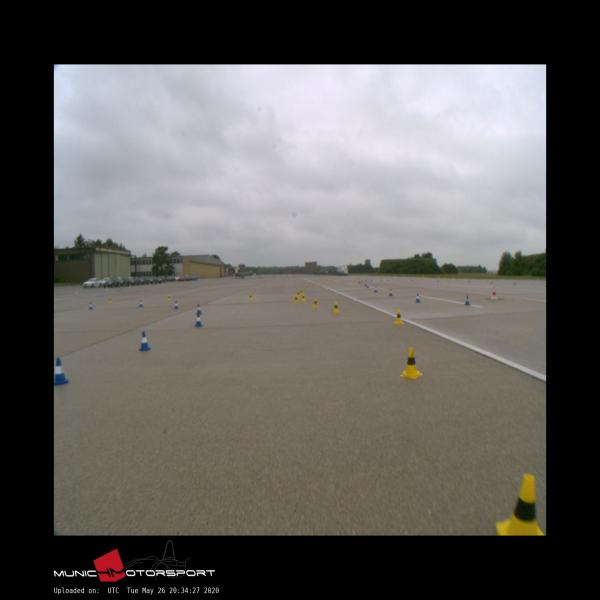blue_cone: (54, 358, 69, 385), (138, 332, 151, 350), (194, 313, 203, 327), (464, 295, 471, 305), (196, 304, 202, 314), (415, 293, 421, 302), (174, 301, 179, 309), (89, 302, 93, 310), (389, 288, 393, 296), (139, 300, 143, 306), (374, 287, 378, 292)
yellow_cone: (496, 475, 544, 535), (401, 347, 422, 378), (392, 308, 404, 324), (332, 301, 340, 314), (312, 298, 318, 308), (294, 295, 299, 303), (302, 293, 306, 301), (167, 294, 171, 300), (249, 294, 253, 300), (109, 297, 112, 303)
